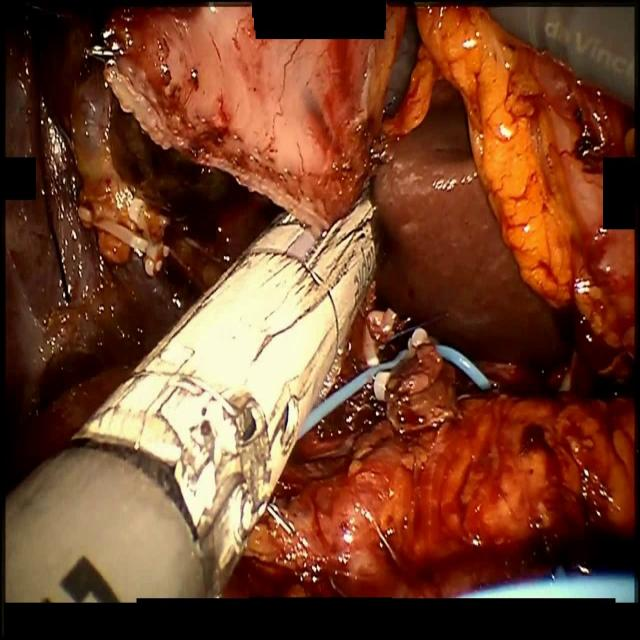surgical-area: (0, 0, 638, 604)
surgical-tool: (0, 180, 382, 605)
